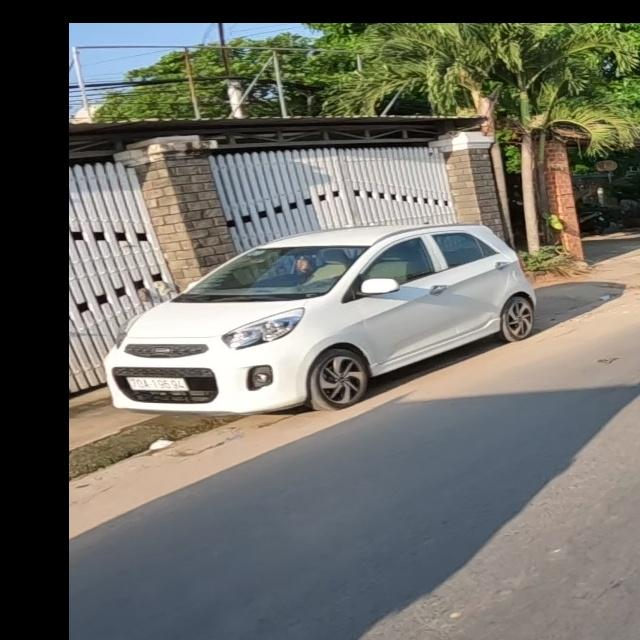license-plate: (128, 375, 188, 393)
